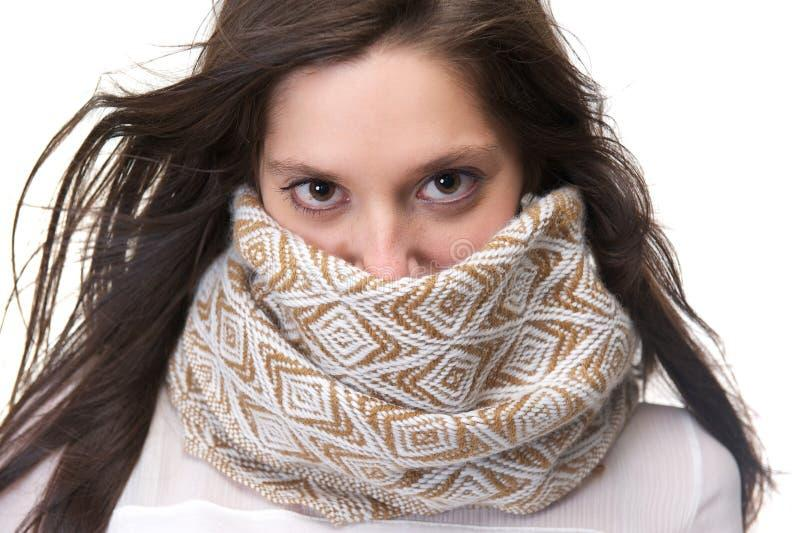scarf-kerchief: (169, 174, 629, 533)
